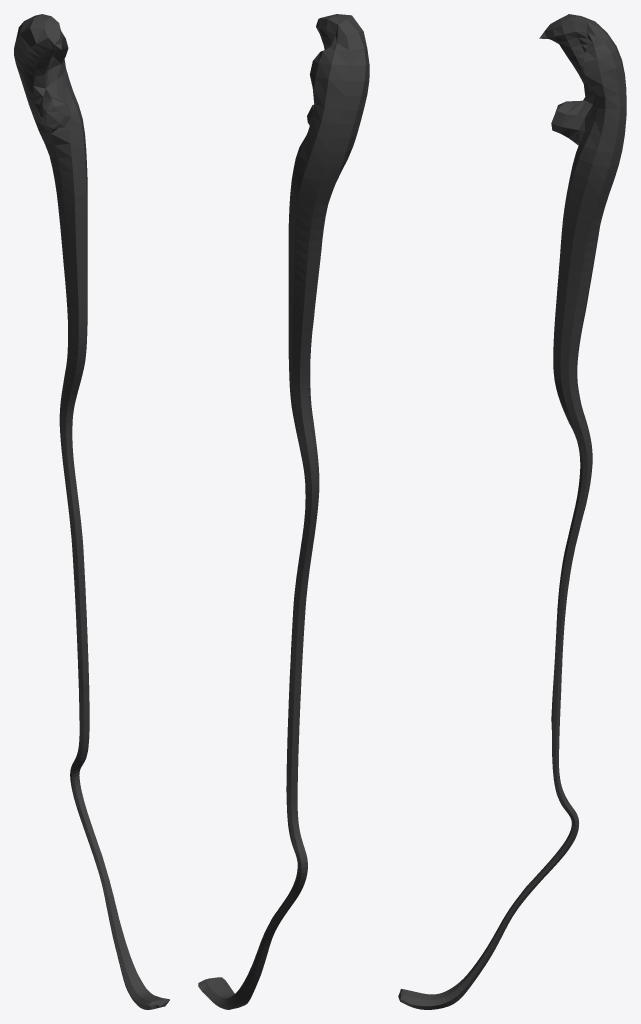
File: DDF.glb
3 views of the same model, side by side, from view 1: azimuth 30°, elevation 25°; view 2: azimuth 210°, elevation 25°; view 3: azimuth 270°, elevation 25° (orthographic). The views are drawn at different scales.
Visible parts, largest first — view 1: DDF; view 2: DDF; view 3: DDF.
Boxes of the visible parts, <box> form: DDF: <box>14,14,169,1009</box>; DDF: <box>198,14,369,1009</box>; DDF: <box>398,14,626,1009</box>.
Bounding box in the file's own units: 13.65 × 180 × 38.34.
1 material, 1 textured.
